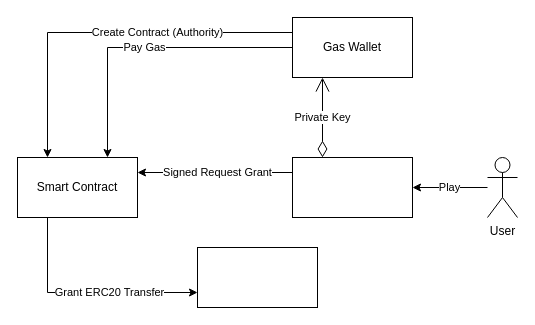
Image size: 535x325. Some labels were removed from this diagram. Here are the shapes that lost their labels. From the top down, the centre of each, then its label:
At (352,187): "Game".
At (257,277): "User Wallet".
